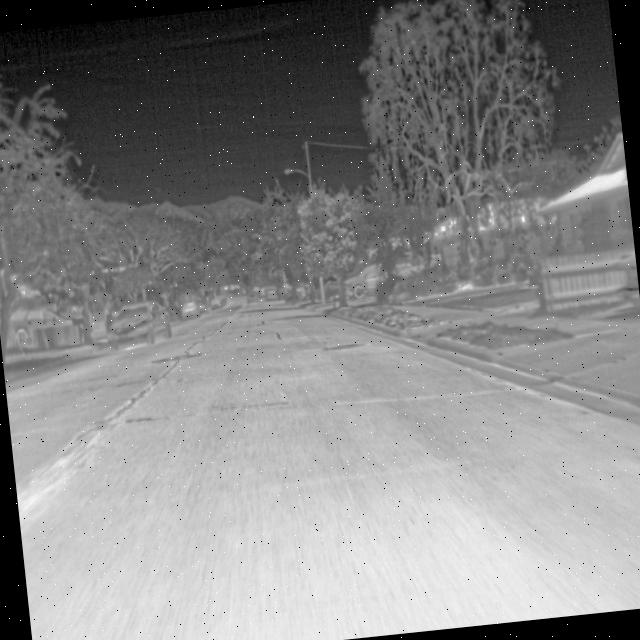Vehicle: (101, 296, 176, 354), (339, 258, 398, 303)
